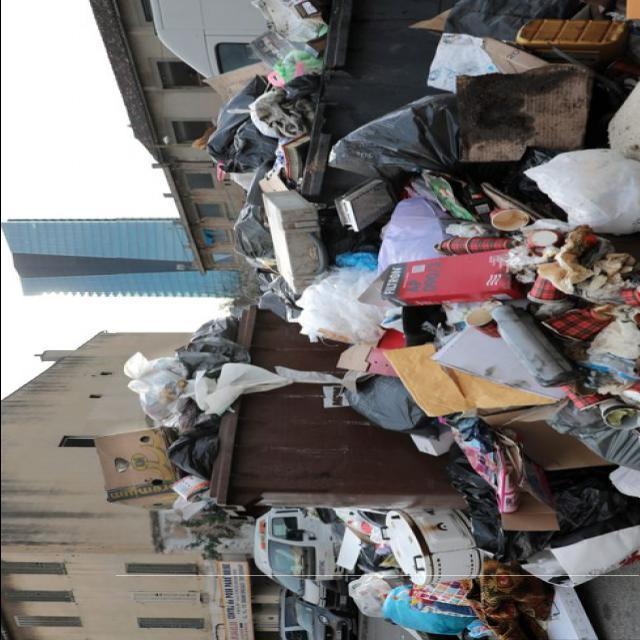Trashbag: (326, 81, 464, 190), (204, 63, 315, 180), (528, 475, 634, 548), (444, 461, 516, 562), (155, 421, 230, 489), (165, 321, 242, 386), (230, 190, 270, 270)
